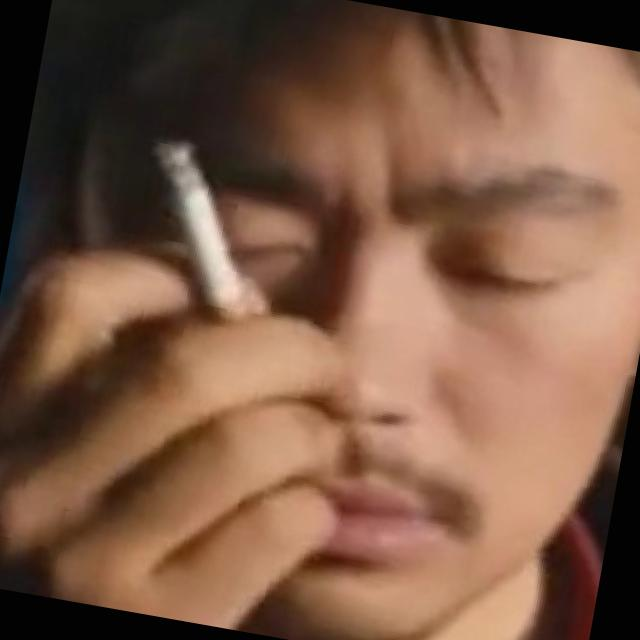smoke: (106, 122, 308, 354)
